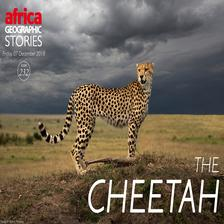Cheetah: (34, 62, 157, 176)
